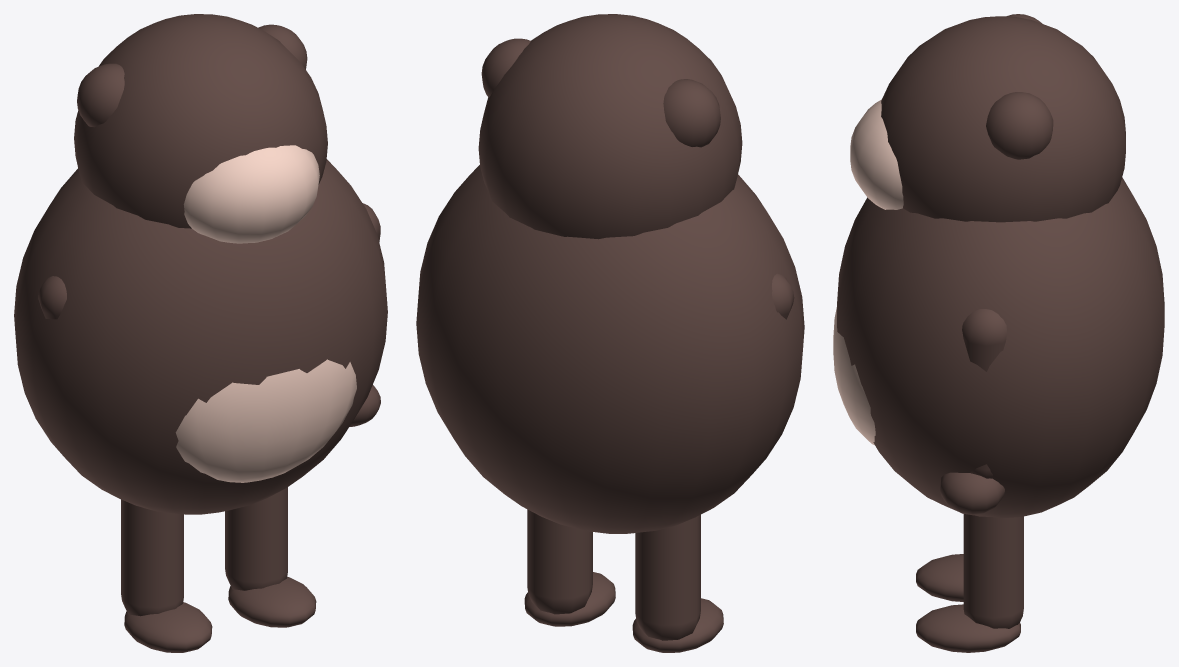
File: gorilla.gltf
3 renders of one model, left to right at view 1: azimuth 30°, elevation 25°; view 2: azimuth 150°, elevation 25°; view 3: azimuth 270°, elevation 25°, orthographic. The views are drawn at different scales.
Visible parts, largest first — view 1: GorillaBody, GorillaHead, GorillaChest, GorillaFace, LegL, LegR, GorillaFootR, GorillaFootL, GorillaEarL, ArmL, GorillaEarR, HandR; view 2: GorillaBody, GorillaHead, LegL, LegR, GorillaEarL, GorillaFootR, GorillaFootL, GorillaEarR, ArmL; view 3: GorillaBody, GorillaHead, LegR, GorillaFace, GorillaEarR, GorillaFootR, GorillaChest, ArmR, HandR, GorillaFootL.
Part boxes in pixels (box(x1,y1,x2,y2)): GorillaBody: box(14, 159, 387, 514); GorillaHead: box(74, 14, 327, 228); GorillaChest: box(175, 359, 356, 482); GorillaFace: box(183, 145, 319, 243); LegL: box(121, 499, 183, 616); LegR: box(225, 487, 287, 590); GorillaFootR: box(228, 577, 316, 627); GorillaFootL: box(124, 602, 212, 652); GorillaEarL: box(77, 63, 124, 127); ArmL: box(38, 276, 66, 319); GorillaEarR: box(258, 24, 307, 69); HandR: box(349, 385, 380, 426); GorillaBody: box(416, 165, 804, 533); GorillaHead: box(478, 14, 742, 239); LegL: box(635, 514, 700, 640); LegR: box(527, 509, 592, 614); GorillaEarL: box(663, 79, 720, 147); GorillaFootR: box(524, 572, 615, 626); GorillaFootL: box(632, 598, 723, 652); GorillaEarR: box(481, 38, 530, 97); ArmL: box(772, 273, 794, 319); GorillaBody: box(837, 177, 1164, 518); GorillaHead: box(881, 16, 1125, 222); LegR: box(963, 514, 1023, 628); GorillaFace: box(850, 99, 903, 209); GorillaEarR: box(986, 92, 1053, 159); GorillaFootR: box(916, 604, 1020, 652); GorillaChest: box(833, 307, 875, 445); ArmR: box(962, 309, 1007, 478); HandR: box(940, 472, 1004, 514); GorillaFootL: box(916, 554, 963, 601).
Bounding box in the file's own units: 11.04 × 18.54 × 9.42.
